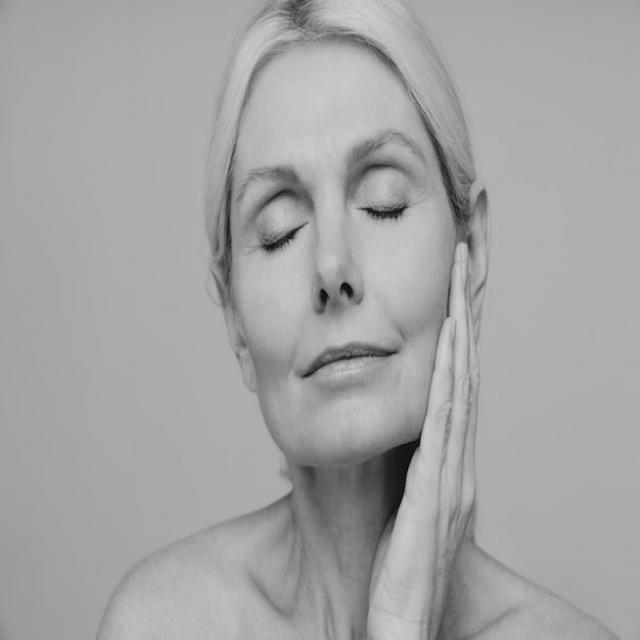real: (202, 1, 492, 475), (218, 146, 459, 260)
